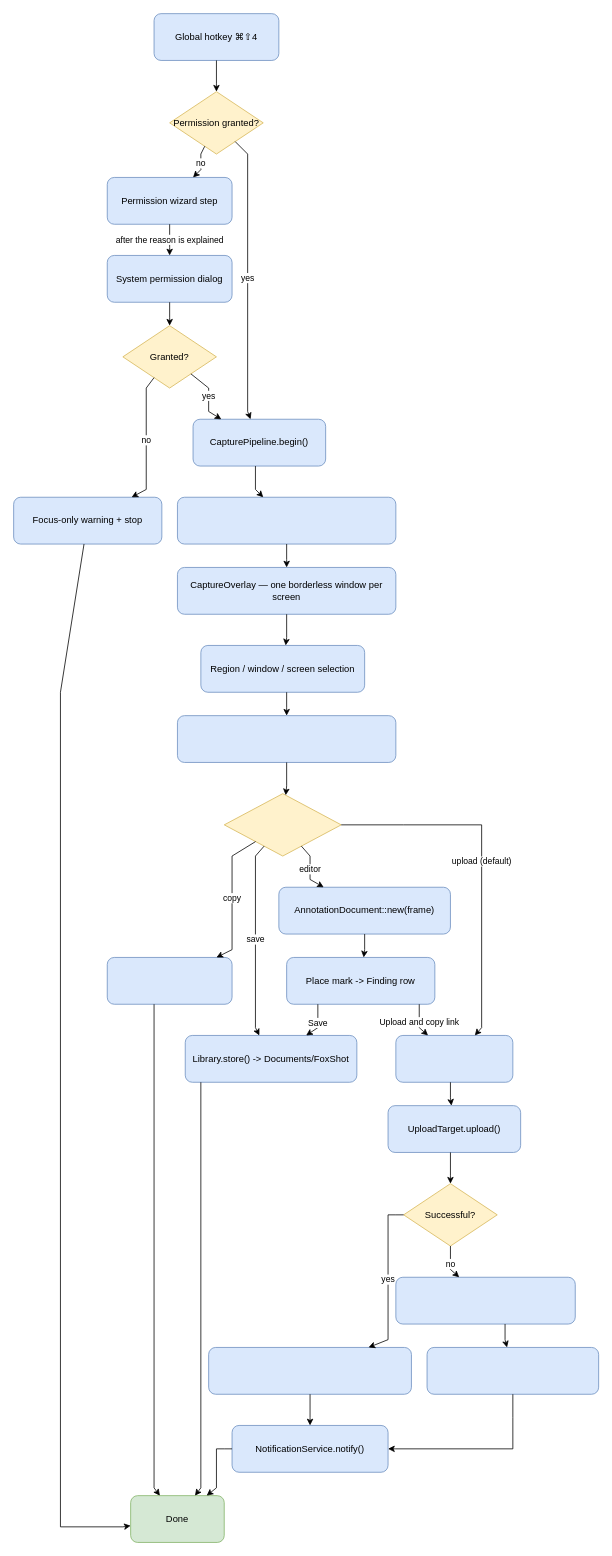
Some shapes in this 612 by 1556 pixel diagram are drawn without their labels. Here are the shapes that lost their labels. From the top down, the centre of each, then its label:
At (x=286, y=520): "ScreenService.enumerate() — normalize mixed DPI".
At (x=286, y=738): "ScreenCapture.grab(rect) -> Frame(RGBA, scale)".
At (x=282, y=824): "Post-capture action?".
At (x=169, y=980): "Clipboard.set_image()".
At (x=454, y=1058): "UploadQueue.push()".
At (x=485, y=1300): "Classify error: auth / net / size".
At (x=309, y=1370): "Link -> Clipboard + Library.mark_uploaded".
At (x=512, y=1370): "Keep local + reason + retry".
